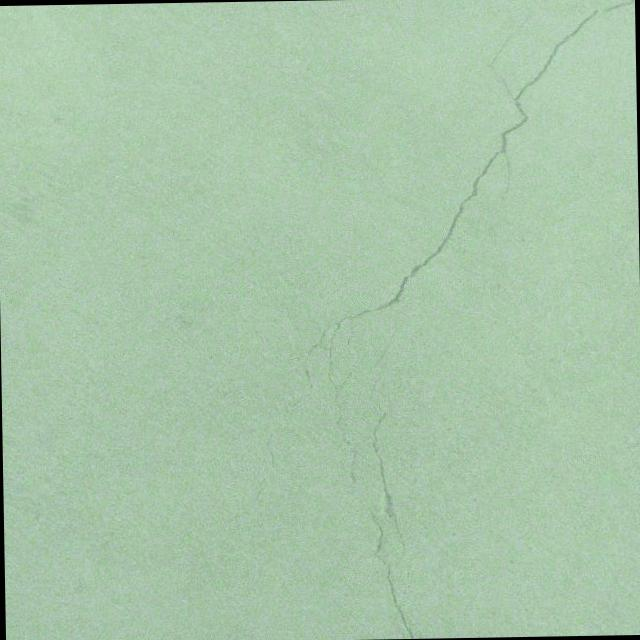crack: (290, 0, 640, 482), (368, 322, 410, 595), (371, 510, 415, 640), (243, 518, 264, 614), (232, 477, 266, 521), (266, 429, 286, 468), (284, 396, 301, 411)
